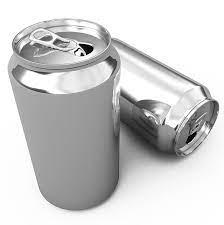lata: (6, 18, 121, 210)
